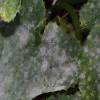Squash Powdery mildew leaf: (0, 0, 82, 99)
